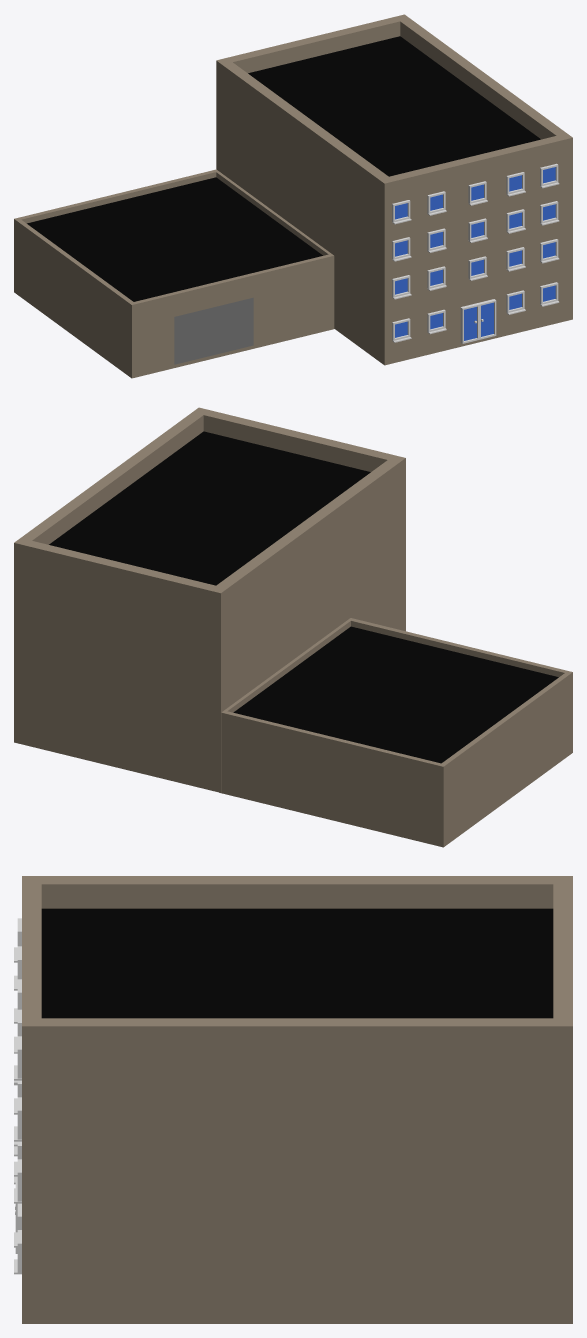
The model's file is Garazv2.fbx.
The picture shows the model from 3 angles, top to bottom: view 1: azimuth 30°, elevation 25°; view 2: azimuth 150°, elevation 25°; view 3: azimuth 270°, elevation 25°; orthographic projection. The views are drawn at different scales.
Visible parts, largest first — view 1: Budynek, Grazaz, Wrota, Drzwi; view 2: Budynek, Grazaz; view 3: Budynek.
Part boxes in pixels (x1,y1,x2,y2): Budynek: (216,14,572,365); Grazaz: (14,169,334,378); Wrota: (174,297,253,364); Drzwi: (460,299,496,343); Budynek: (14,407,405,792); Grazaz: (219,618,572,847); Budynek: (22,876,572,1323).
Size of the model in its own units: 2312 by 1030 by 1750.
